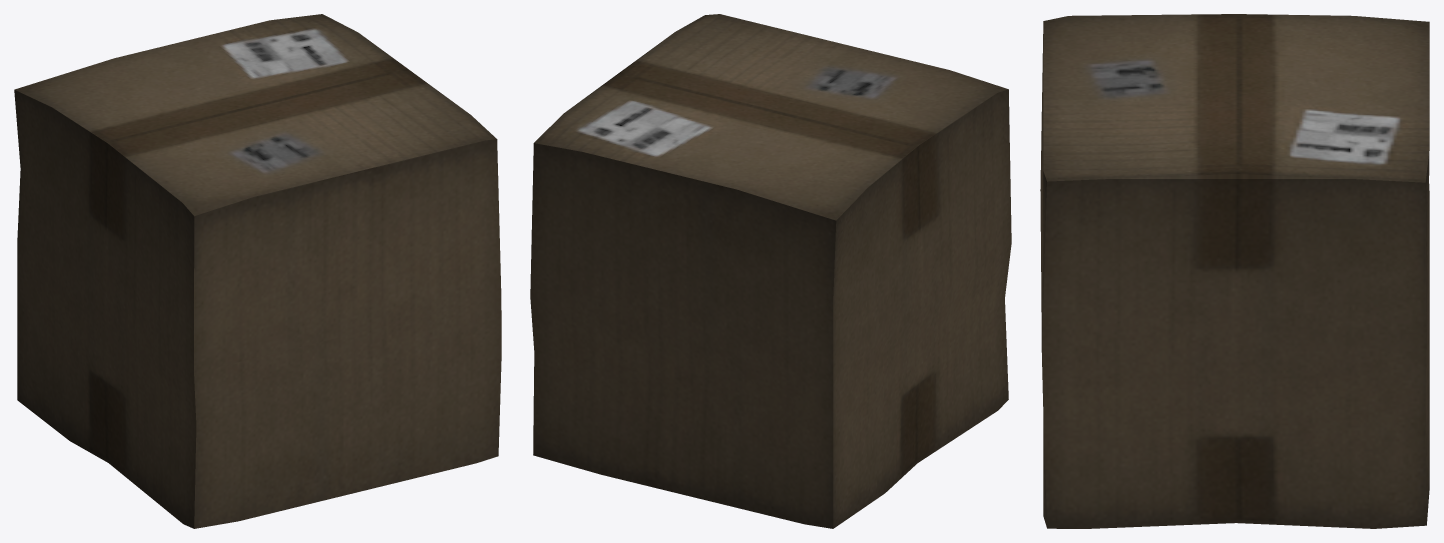
The model's file is cardboard_box_2.dae.
The picture shows the model from 3 angles, left to right: view 1: azimuth 30°, elevation 25°; view 2: azimuth 150°, elevation 25°; view 3: azimuth 270°, elevation 25°; orthographic projection. The views are drawn at different scales.
Visible parts, largest first — view 1: cardboard_box_2; view 2: cardboard_box_2; view 3: cardboard_box_2.
Part boxes in pixels (<box>): cardboard_box_2: <box>14,14,501,528</box>; cardboard_box_2: <box>530,14,1011,528</box>; cardboard_box_2: <box>1040,14,1429,528</box>.
Bounding box in the file's own units: 0.7297 × 0.7254 × 0.7262.
Materials: 1 (1 with a texture image).
